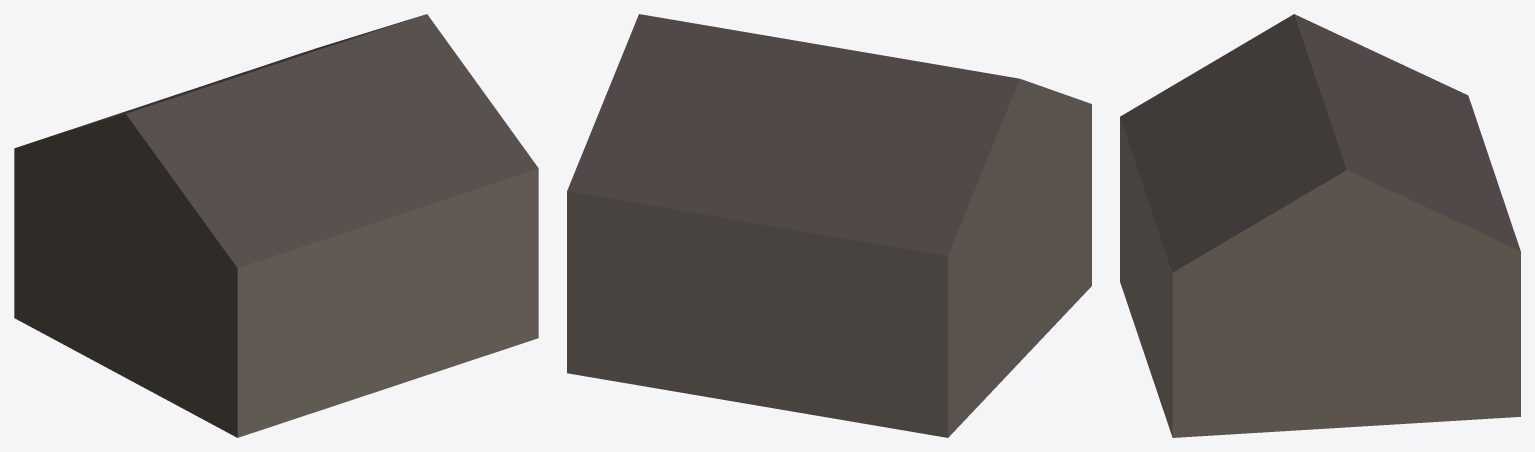
3 views of the same model, side by side, from view 1: azimuth 30°, elevation 25°; view 2: azimuth 150°, elevation 25°; view 3: azimuth 270°, elevation 25° (orthographic). The views are drawn at different scales.
Visible parts, largest first — view 1: HP-w1286956117; view 2: HP-w1286956117; view 3: HP-w1286956117.
Boxes of the visible parts, x1,y1,x2,y2 form: HP-w1286956117: (14,14,538,437); HP-w1286956117: (567,14,1091,437); HP-w1286956117: (1120,14,1520,437).
Bounding box in the file's own units: 20.7 × 14.01 × 19.78.
